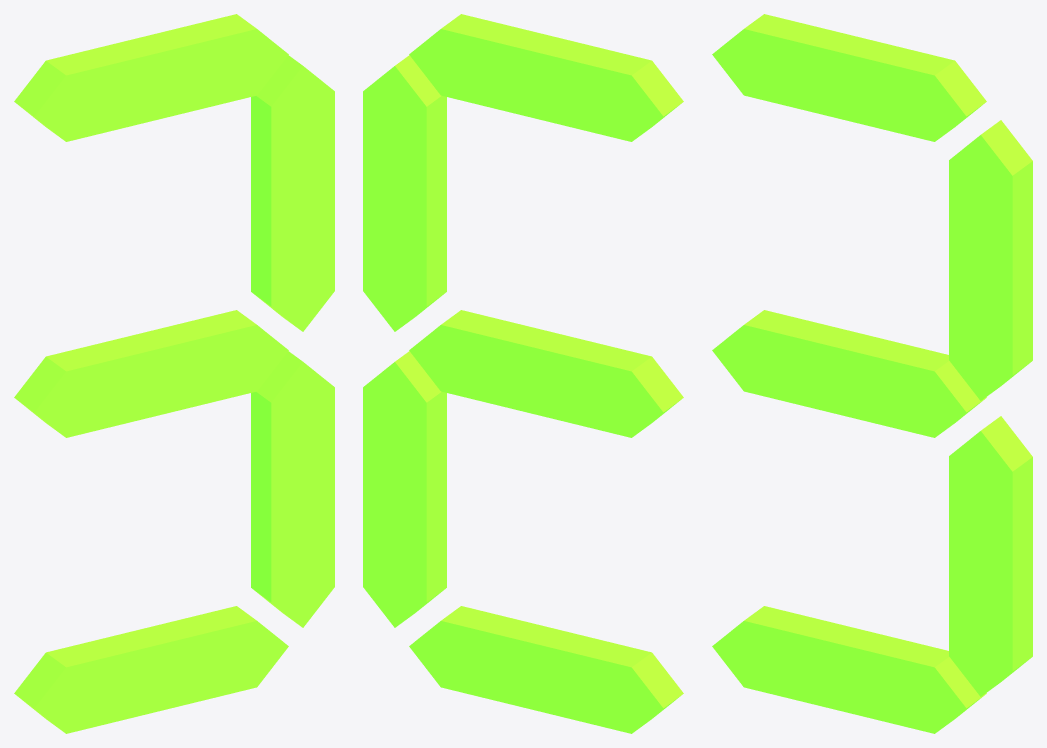
The model's file is number3.glb.
3 renders of one model, left to right at view 1: azimuth 30°, elevation 25°; view 2: azimuth 150°, elevation 25°; view 3: azimuth 330°, elevation 25°, orthographic.
Parts seen in each view (by area): view 1: Cube.004; view 2: Cube.004; view 3: Cube.004.
Boxes of the visible parts, <box> form: Cube.004: <box>14,14,334,733</box>; Cube.004: <box>363,14,683,733</box>; Cube.004: <box>712,14,1032,733</box>.
Bounding box in the file's own units: 8.5 × 17.8 × 1.
